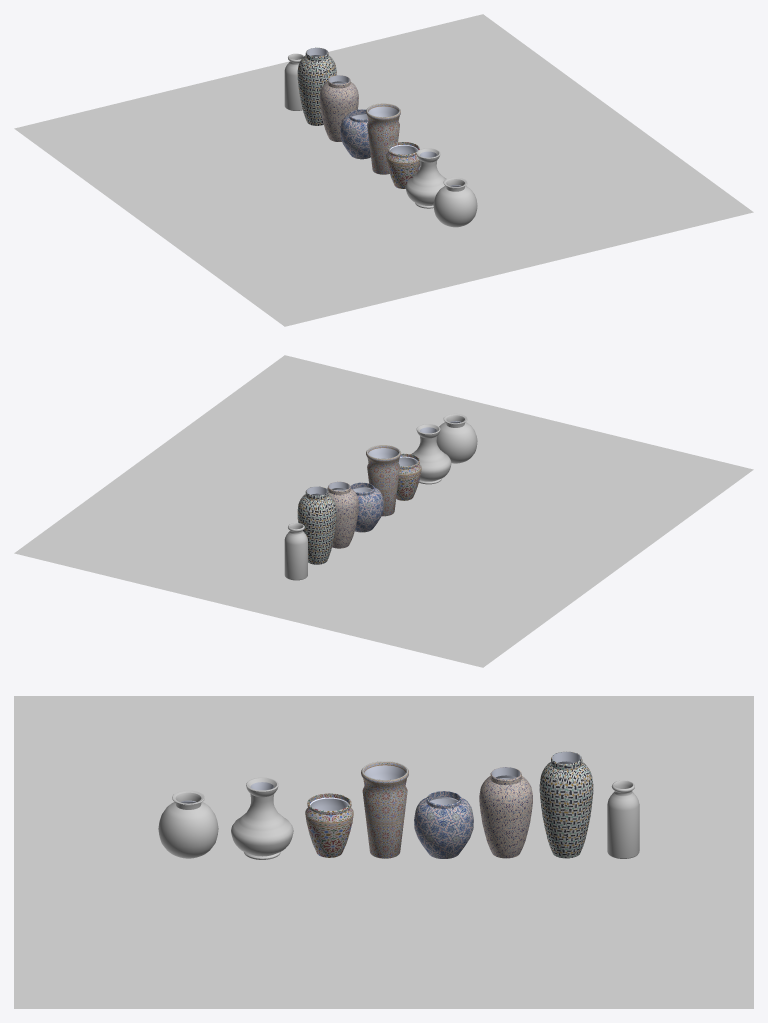
Rendered from pots.fbx.
3 views of the same model, one above another, from view 1: azimuth 30°, elevation 25°; view 2: azimuth 150°, elevation 25°; view 3: azimuth 270°, elevation 25° (orthographic). The views are drawn at different scales.
Visible parts, largest first — view 1: Plane, Cylinder.002, Cylinder.004, Cylinder.001, Cylinder.006, Cylinder.005, Cylinder.003, Cylinder, Cylinder.007; view 2: Plane, Cylinder.002, Cylinder.004, Cylinder.006, Cylinder.005, Cylinder.001, Cylinder.007, Cylinder, Cylinder.003; view 3: Plane, Cylinder.002, Cylinder.001, Cylinder.004, Cylinder.005, Cylinder, Cylinder.006, Cylinder.003, Cylinder.007.
Part boxes in pixels (x1,y1,x2,y2): Plane: [14, 14, 753, 326]; Cylinder.002: [297, 47, 336, 125]; Cylinder.004: [366, 103, 400, 174]; Cylinder.001: [319, 75, 358, 141]; Cylinder.006: [433, 177, 477, 227]; Cylinder.005: [405, 148, 446, 208]; Cylinder.003: [386, 142, 420, 188]; Cylinder: [340, 109, 370, 159]; Cylinder.007: [284, 53, 303, 110]; Plane: [14, 355, 753, 667]; Cylinder.002: [297, 486, 336, 564]; Cylinder.004: [366, 445, 400, 516]; Cylinder.006: [436, 413, 477, 463]; Cylinder.005: [411, 424, 451, 484]; Cylinder.001: [327, 481, 358, 548]; Cylinder.007: [284, 523, 307, 580]; Cylinder: [350, 482, 383, 532]; Cylinder.003: [396, 453, 421, 500]; Plane: [14, 696, 753, 1008]; Cylinder.002: [539, 751, 593, 858]; Cylinder.001: [479, 767, 532, 858]; Cylinder.004: [361, 761, 408, 858]; Cylinder.005: [231, 777, 293, 859]; Cylinder: [414, 791, 473, 858]; Cylinder.006: [158, 790, 218, 858]; Cylinder.003: [305, 793, 353, 857]; Cylinder.007: [607, 780, 639, 858].
Bounding box in the file's own units: 3281 × 464 × 3281.
